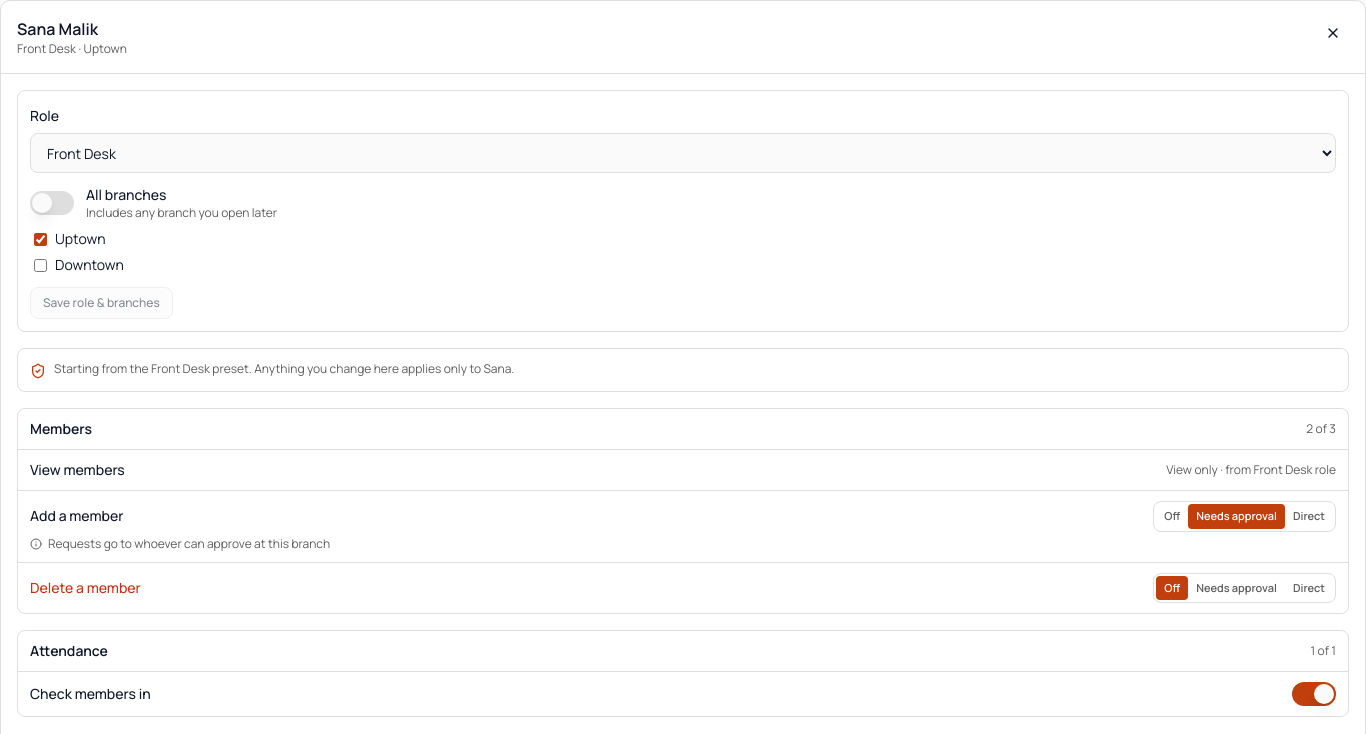
Test case: MemberAccessPanel — role and branches (RBAC-05, RBAC-08) › shows the server’s reason when it refuses a role with 403
Select "Branch Admin" in the dropdown labelled "Role" at (683,153), box [30, 133, 1336, 173]
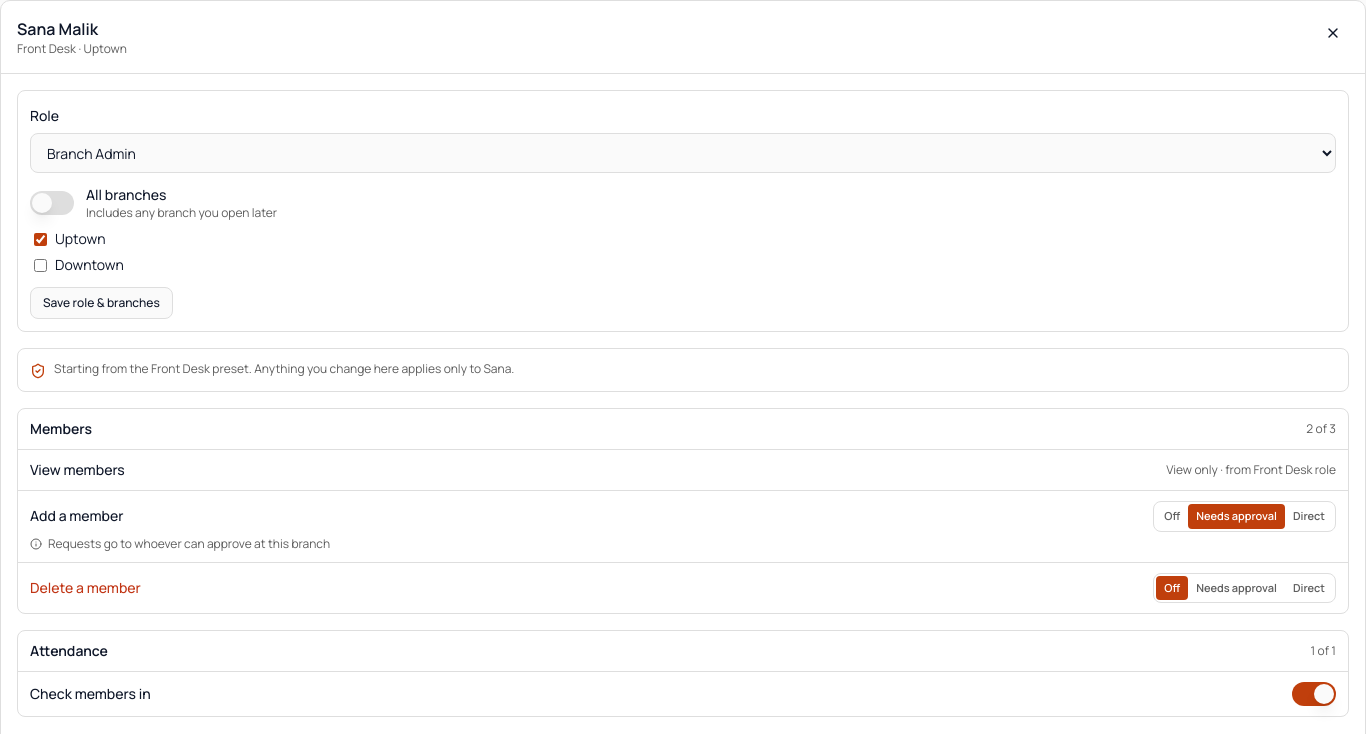
Click the button "Save role & branches" at (101,303), box [30, 287, 173, 319]
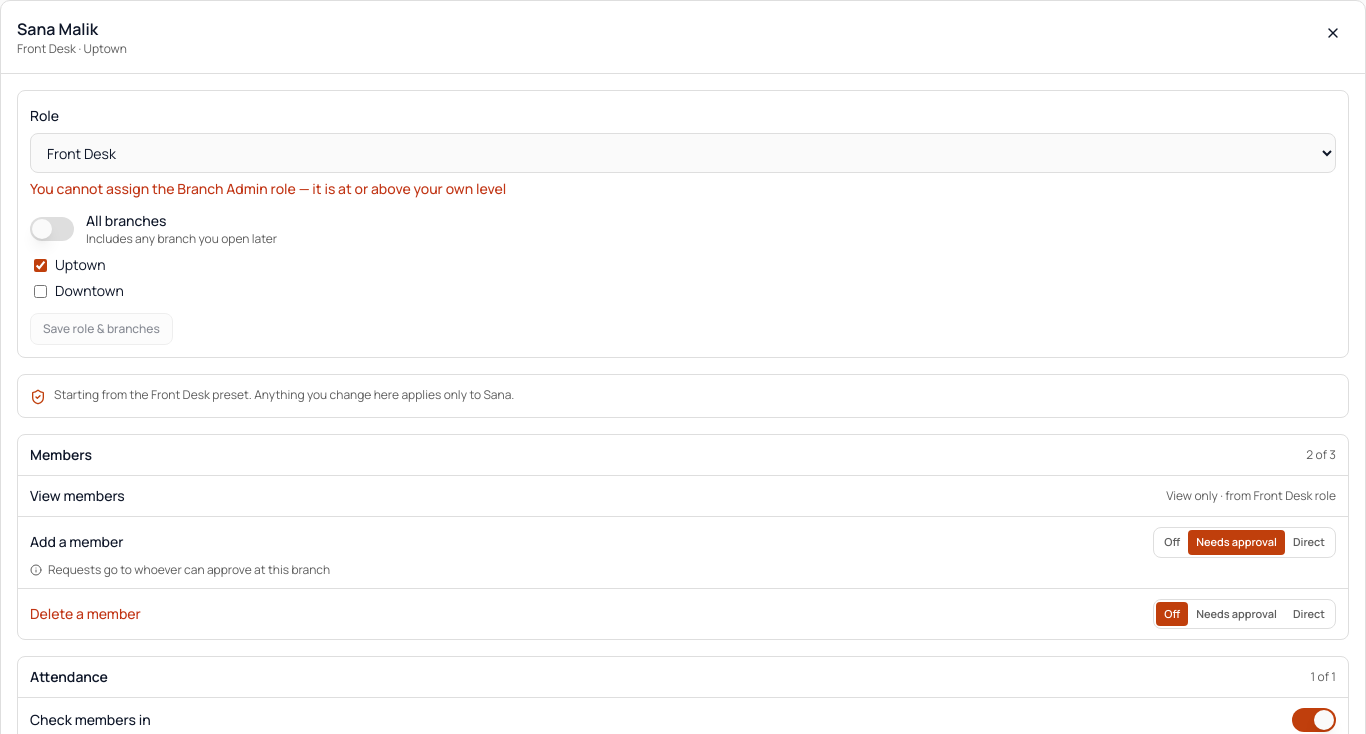
Expected: the message with test id "role-error" reads "You cannot assign the Branch Admin role — it is at or above your own level", [30, 179, 506, 198]
